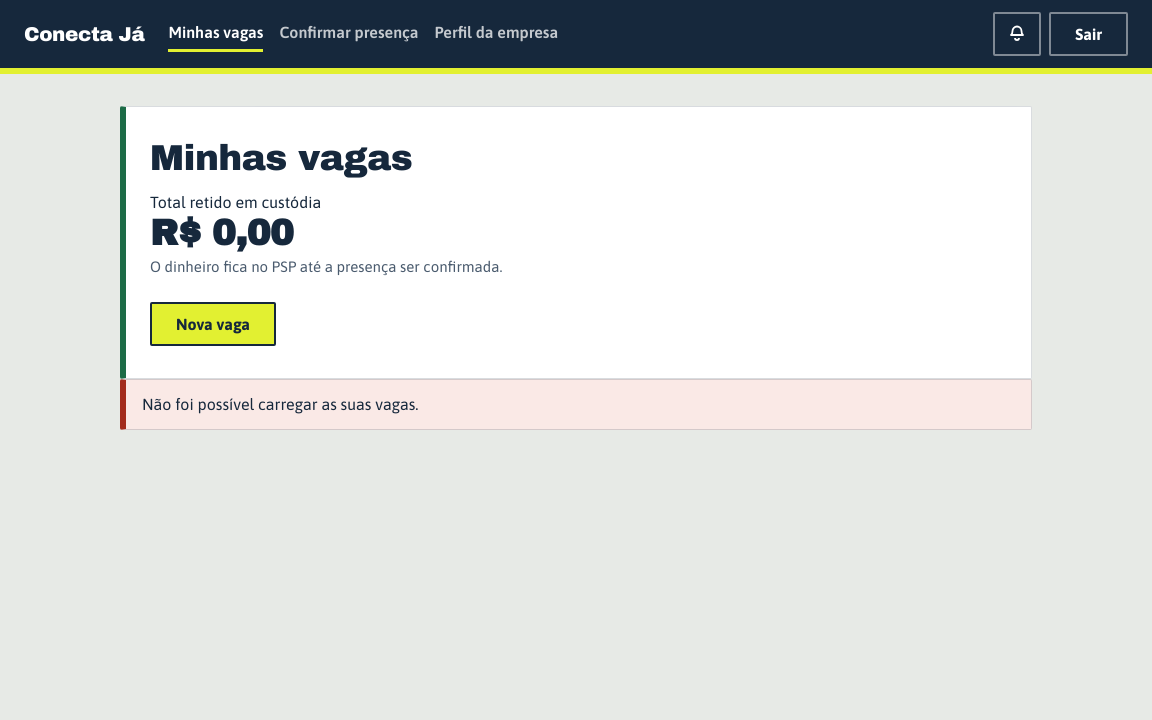
it: App › encerra a sessão ao sair
The width and height of the screenshot is (1152, 720).
Click the button "Sair".
click(1089, 34)  # box [1049, 12, 1128, 56]
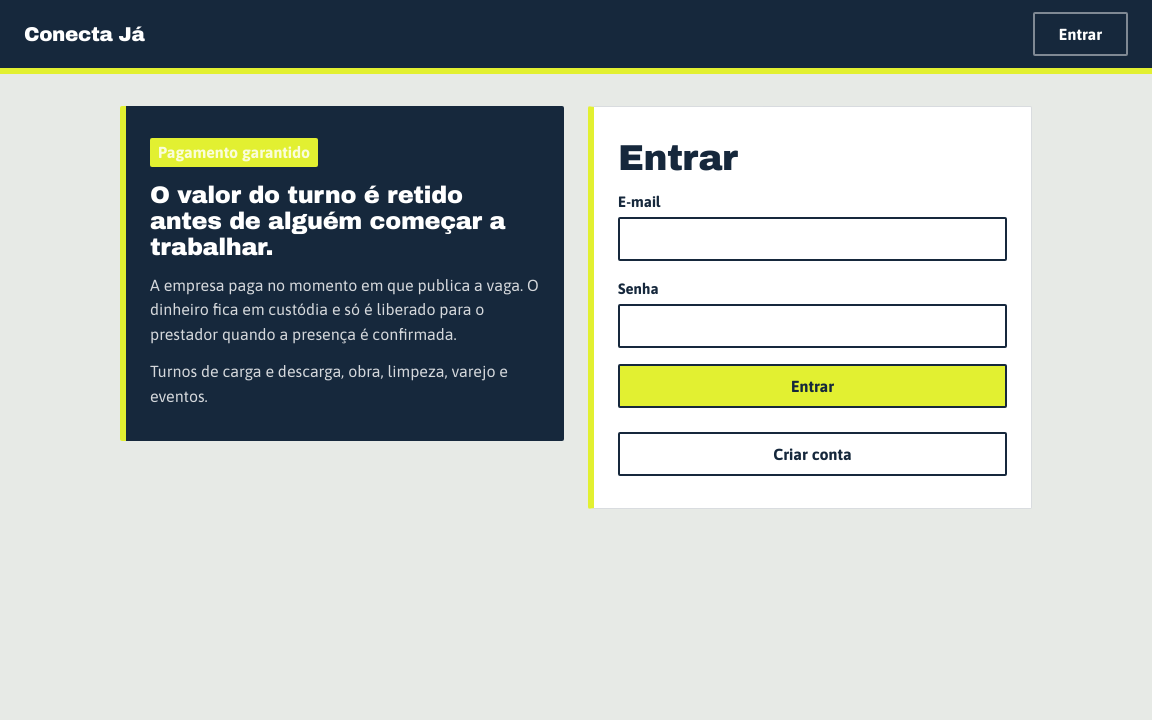
Expected: the heading "Entrar" is shown, [618, 138, 737, 178]
